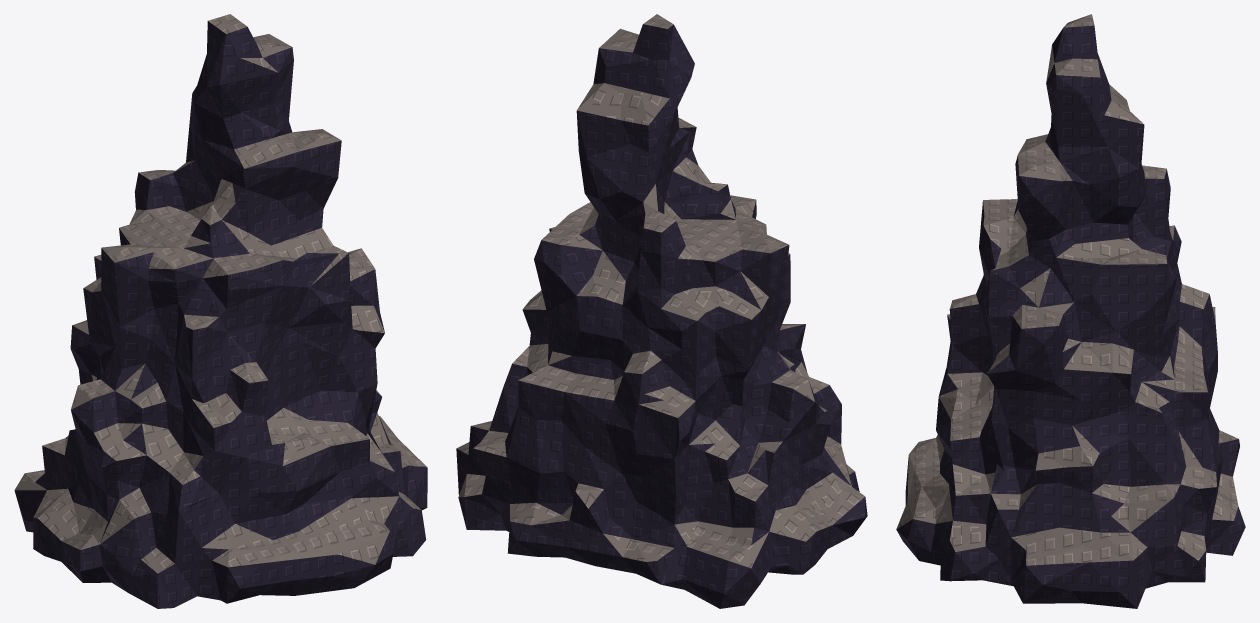
The model's file is ObsidianStackBig.glb.
3 renders of one model, left to right at view 1: azimuth 30°, elevation 25°; view 2: azimuth 150°, elevation 25°; view 3: azimuth 270°, elevation 25°, orthographic.
Parts seen in each view (by area): view 1: ObsidianStackBig_Rock, ObsidianStackBig_Top; view 2: ObsidianStackBig_Rock, ObsidianStackBig_Top; view 3: ObsidianStackBig_Rock, ObsidianStackBig_Top.
Part boxes in pixels (x1=…): ObsidianStackBig_Rock: x1=14, y1=21, x2=427, y2=608; ObsidianStackBig_Top: x1=15, y1=14, x2=426, y2=573; ObsidianStackBig_Rock: x1=456, y1=24, x2=867, y2=608; ObsidianStackBig_Top: x1=456, y1=14, x2=864, y2=568; ObsidianStackBig_Rock: x1=896, y1=25, x2=1245, y2=608; ObsidianStackBig_Top: x1=896, y1=14, x2=1238, y2=565.
Size of the model in its own units: 22.76 by 30.55 by 18.83.
2 materials, 2 textured.
